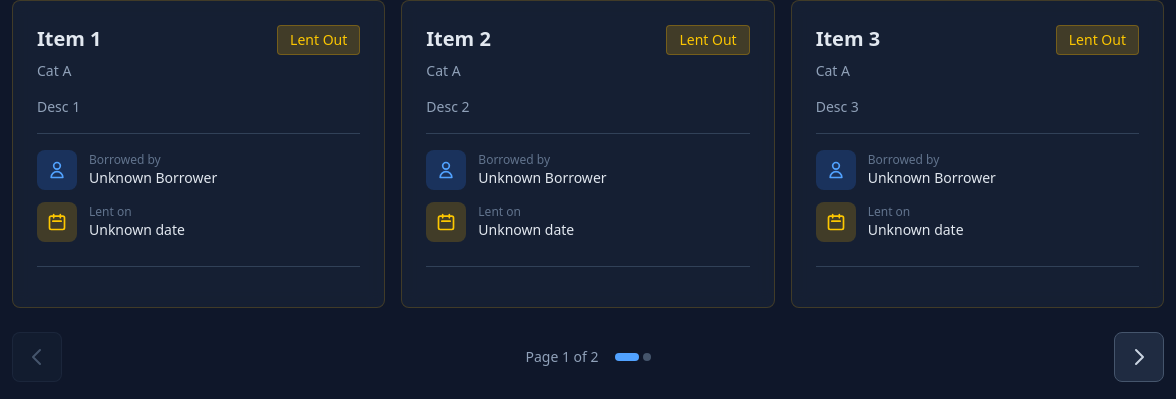
ItemCarousel Component › Navigation Buttons (T036, T037) › navigates to next page when Next is clicked
Click the button named "Next page": (1139, 357) [1114,332,1164,382]
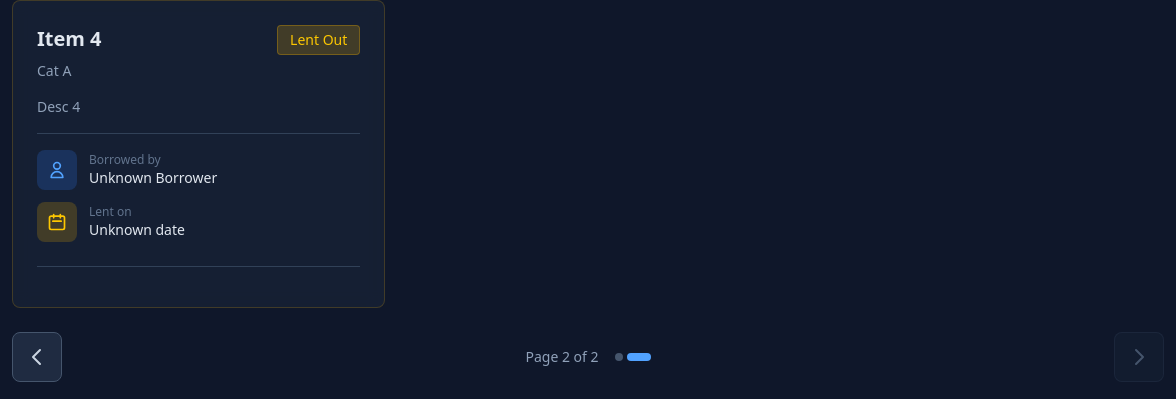
expect the heading "Item 4" is shown: met, box [37,25,102,52]
